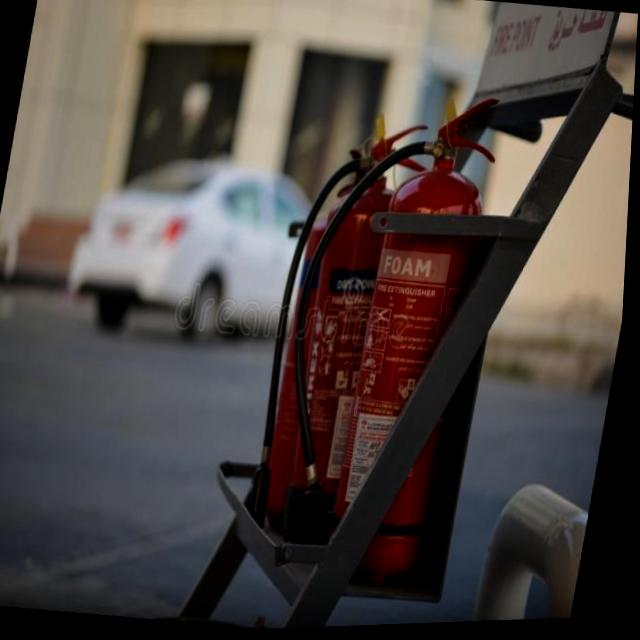FireExtinguisher: (253, 77, 511, 606), (258, 106, 443, 561)
